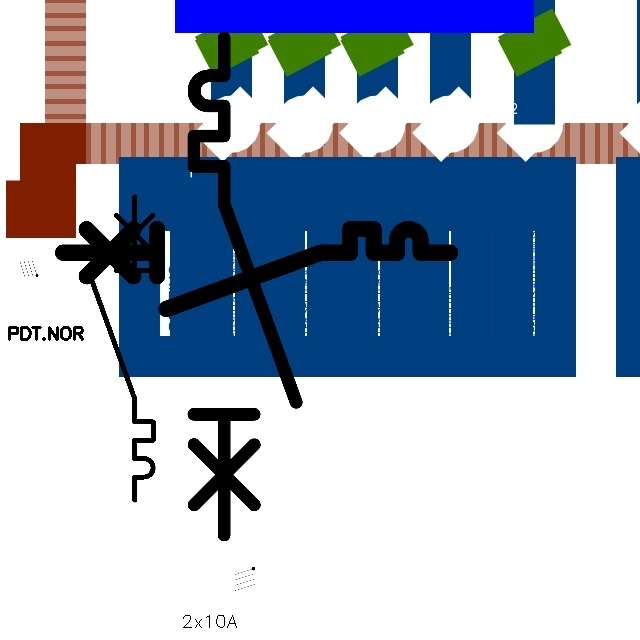interruptor_termomagnetico: (181, 25, 309, 548), (53, 219, 460, 318), (83, 189, 161, 508)
